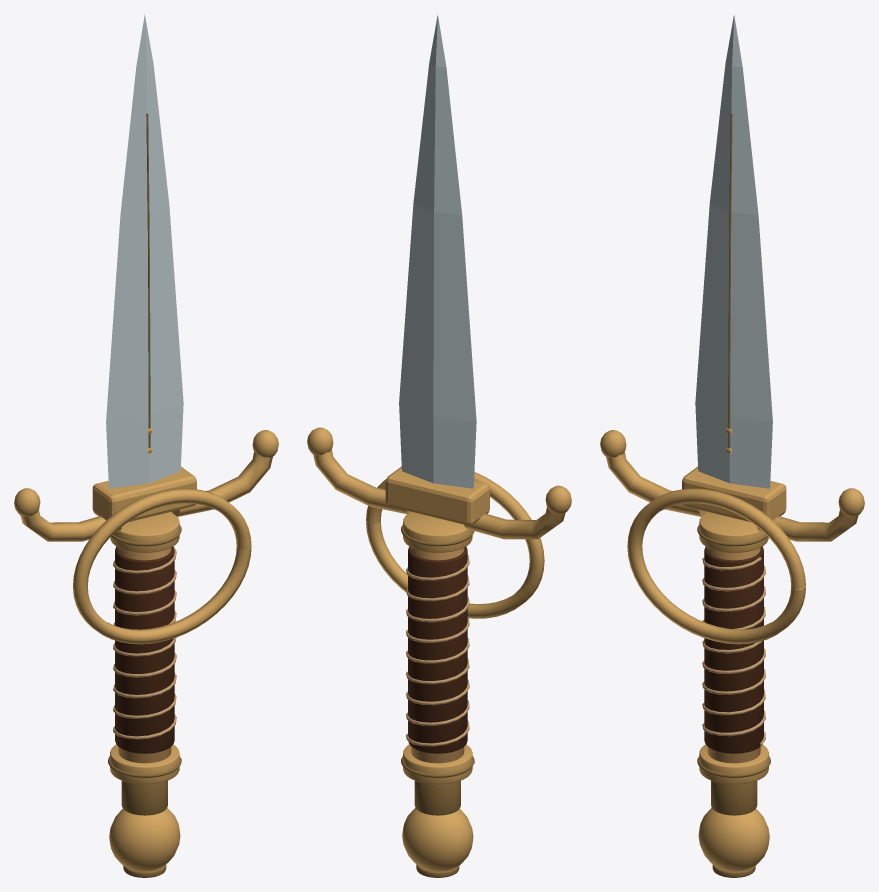
Rendered from knife.glb.
The picture shows the model from 3 angles, left to right: view 1: azimuth 30°, elevation 25°; view 2: azimuth 150°, elevation 25°; view 3: azimuth 330°, elevation 25°; orthographic projection.
Parts seen in each view (by area): view 1: Render_knife; view 2: Render_knife; view 3: Render_knife.
Boxes of the visible parts, box(x1,y1,x2,y2) form: Render_knife: box(14, 14, 278, 877); Render_knife: box(307, 14, 571, 877); Render_knife: box(600, 14, 864, 877).
Bounding box in the file's own units: 0.182 × 0.5698 × 0.0478.
Materials: 7 (2 with a texture image).
